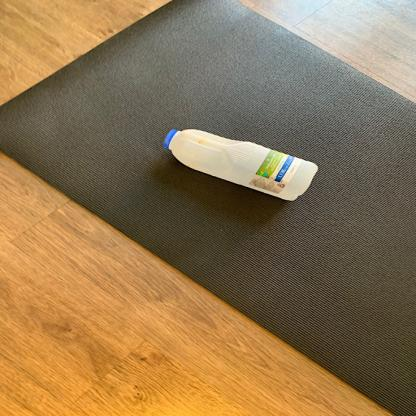trash: (164, 126, 318, 207)
